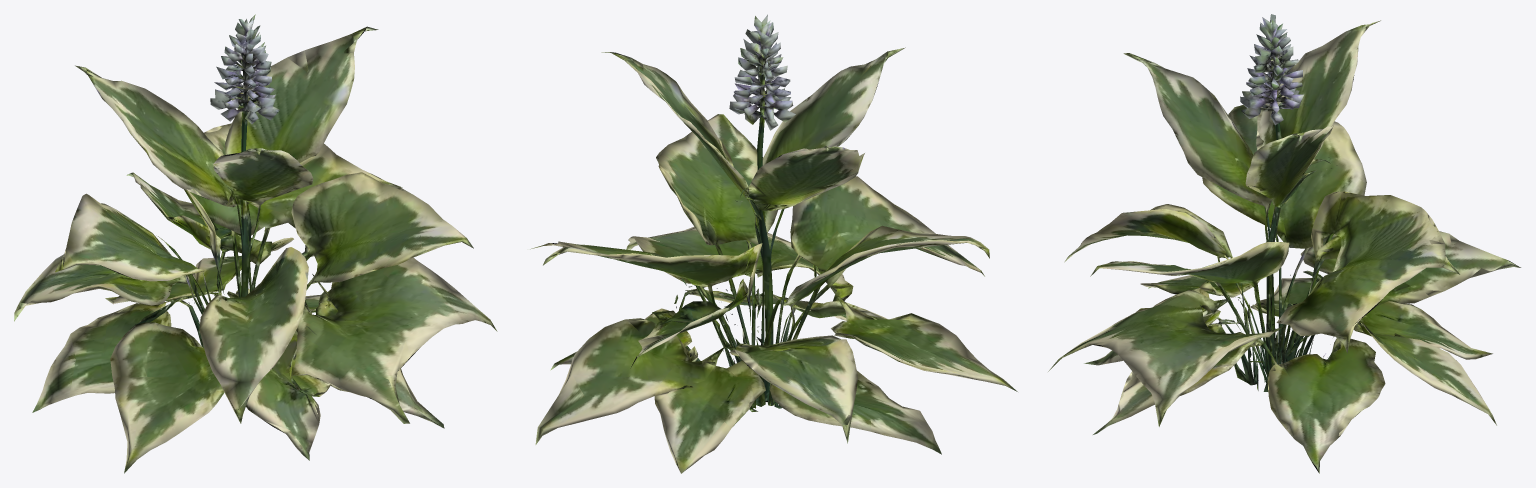
Rendered from plant_hosta.glb.
3 renders of one model, left to right at view 1: azimuth 30°, elevation 25°; view 2: azimuth 150°, elevation 25°; view 3: azimuth 270°, elevation 25°, orthographic. The views are drawn at different scales.
Parts seen in each view (by area): view 1: lo; view 2: lo; view 3: lo.
Boxes of the visible parts, x1,y1,x2,y2 form: lo: (14,14,497,473); lo: (530,14,1017,473); lo: (1048,14,1520,473).
Bounding box in the file's own units: 1.81 × 1.61 × 1.88.
1 material, 1 textured.
